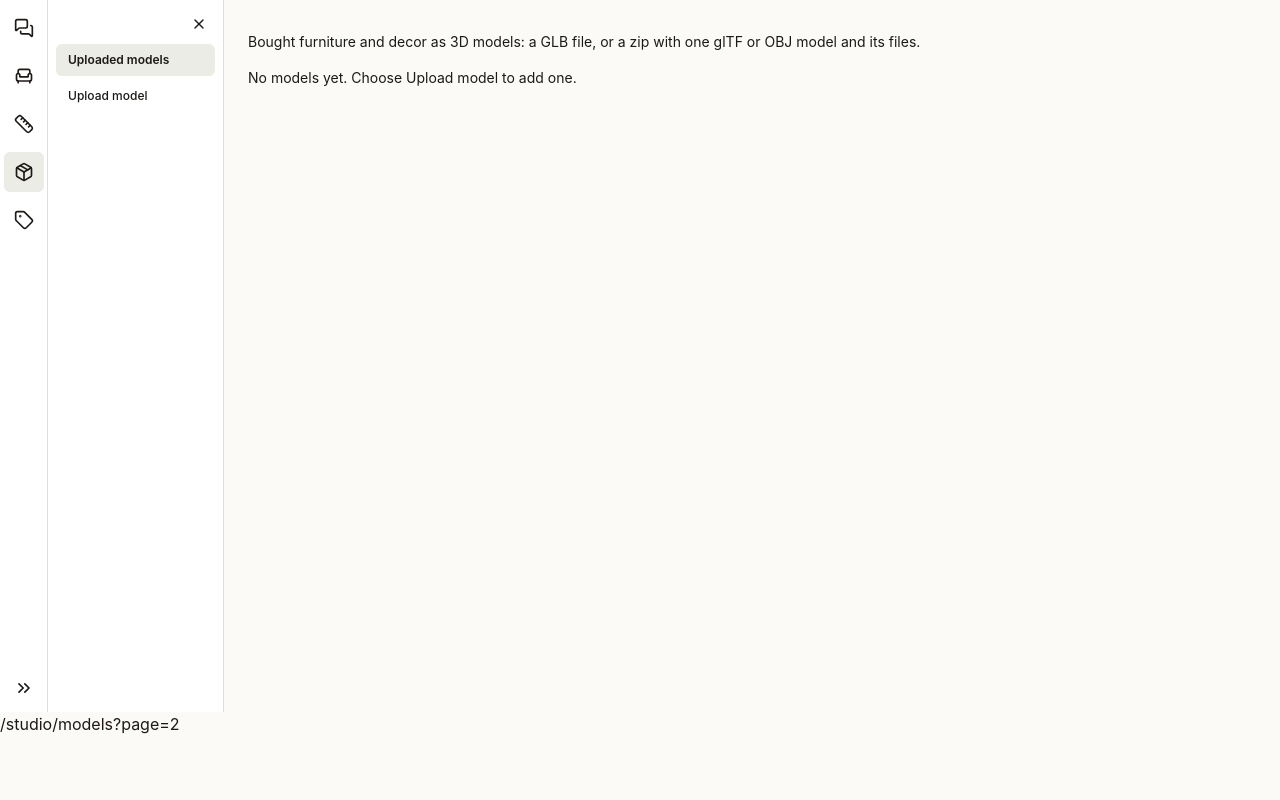
Scenario: Upload model opens the upload dialog over the grid and is highlighted while open
The image size is (1280, 800).
Click the link "Upload model" at (108, 96), box 68,88 -> 148,103
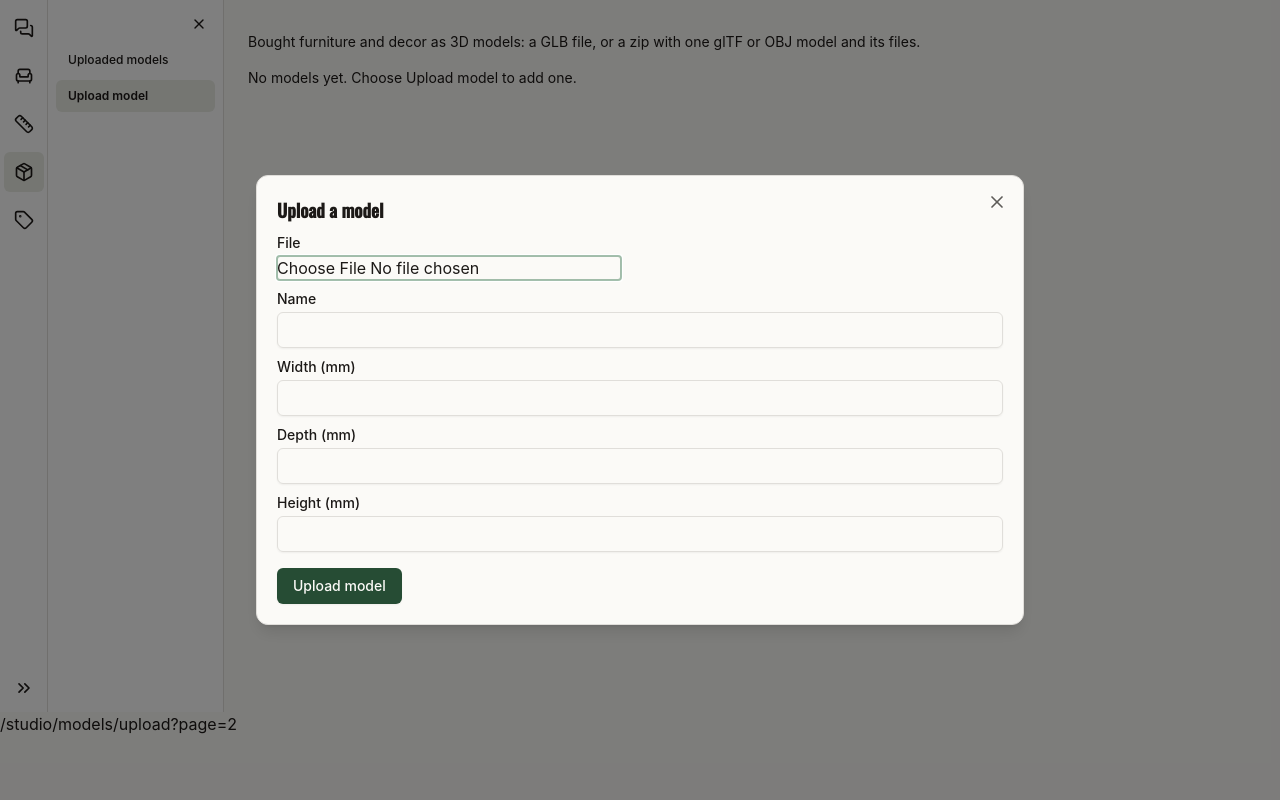
Now the text named "address" reads "/studio/models/upload?page=2", box 0,714 -> 237,734
Now the dialog "Upload a model" is shown, box 256,175 -> 1024,625
Press Escape
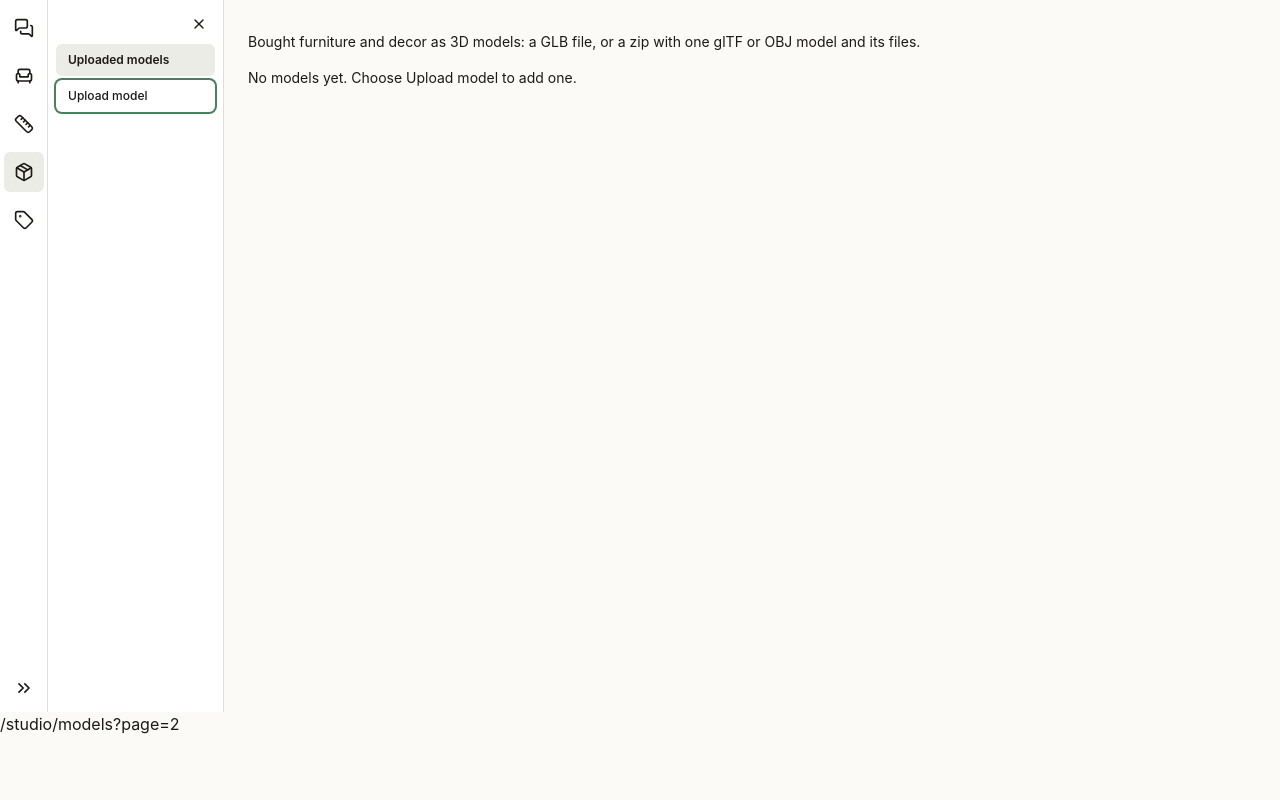
Now the text named "address" reads "/studio/models?page=2", box 0,714 -> 180,734
Now the dialog is gone
